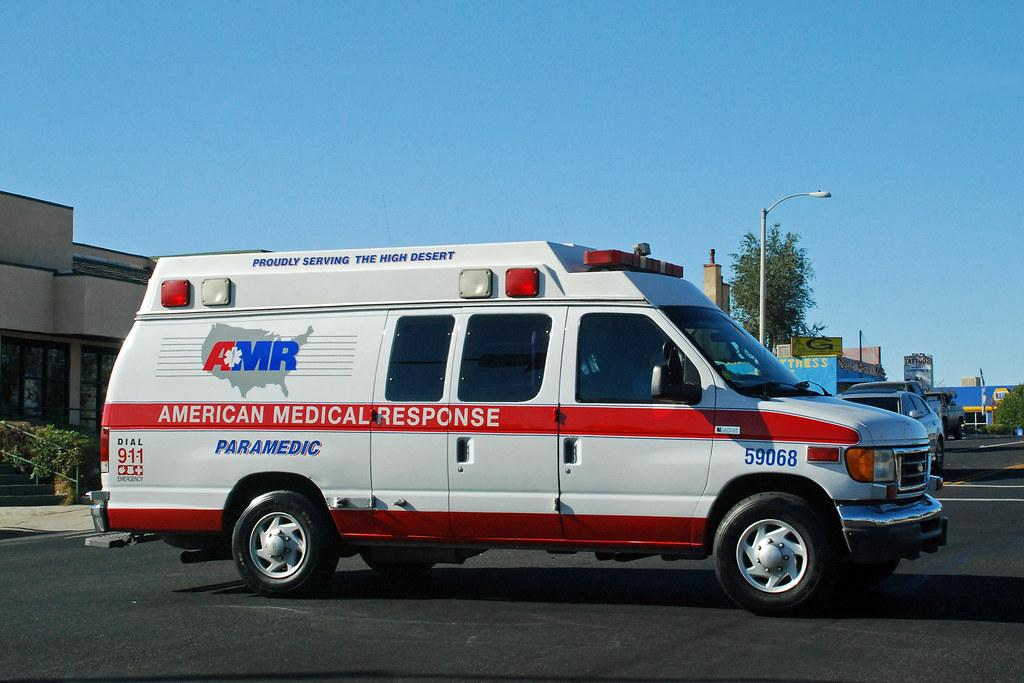ambulance_off: (85, 237, 946, 607)
